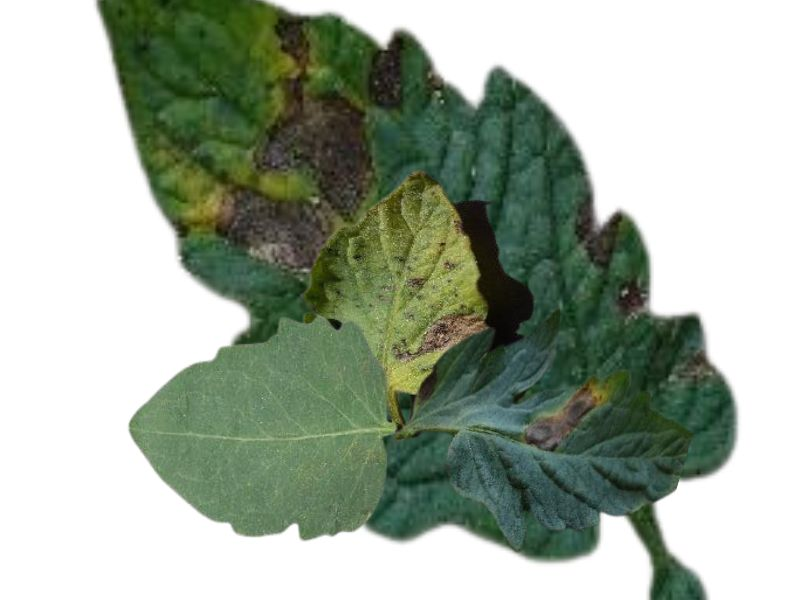Early_blight: (209, 9, 375, 272), (521, 381, 604, 450), (387, 307, 488, 361), (573, 193, 622, 272), (367, 45, 406, 113), (617, 284, 650, 316), (404, 270, 419, 289)
